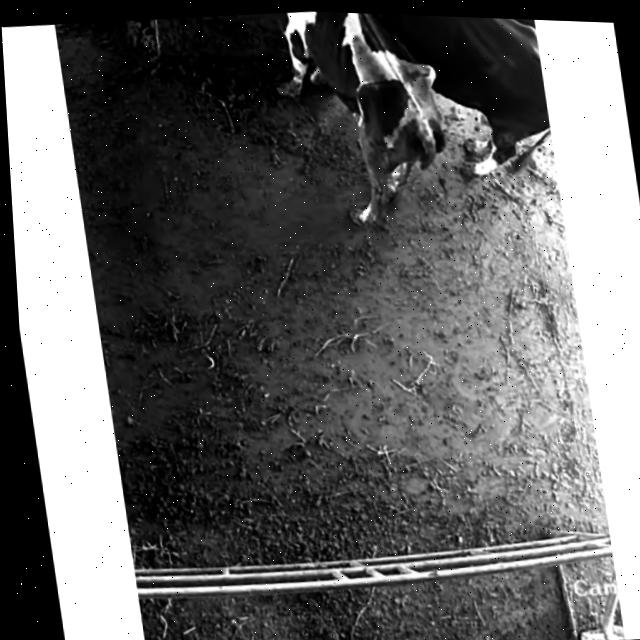drink: (156, 6, 346, 61)
